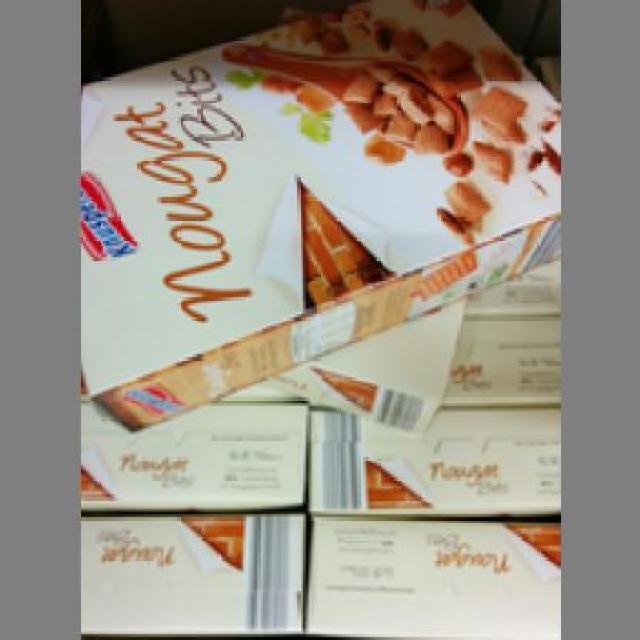Cereal: (76, 0, 558, 435)
